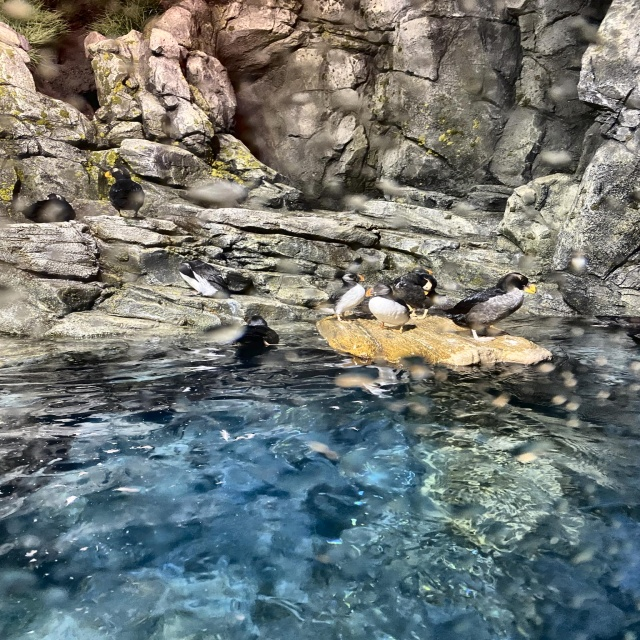puffin: (446, 272, 536, 342), (174, 258, 250, 302), (313, 274, 365, 323), (230, 314, 280, 360), (365, 284, 410, 334), (104, 164, 142, 220), (395, 271, 437, 319), (22, 191, 72, 227)
